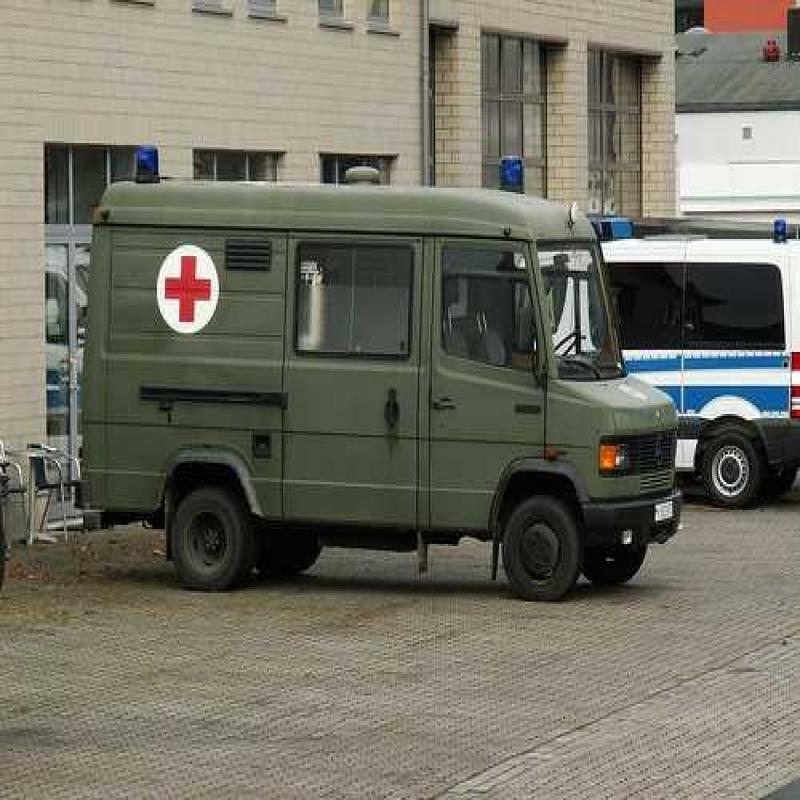AmbulanceSiren: (492, 130, 532, 197)
